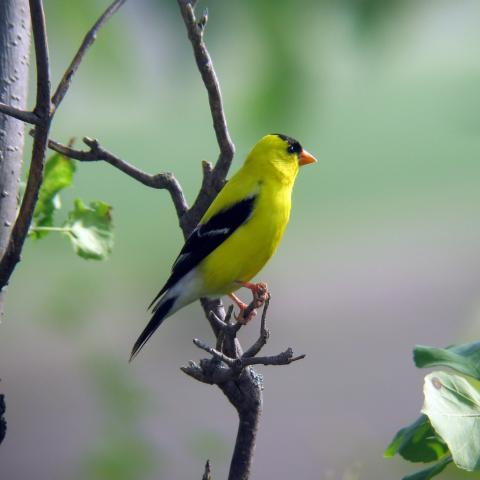bird: (127, 130, 318, 364)
